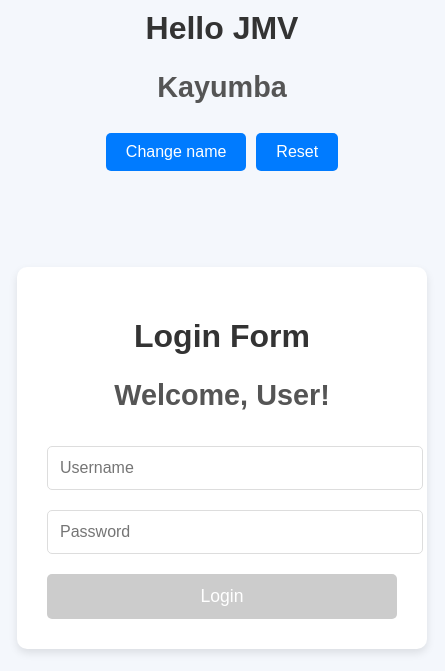
Test: Testing my APP › Test if the "change name" button will change to Leticia
The image size is (445, 671).
Click the button "Change name": (176, 152) [106,133,246,171]
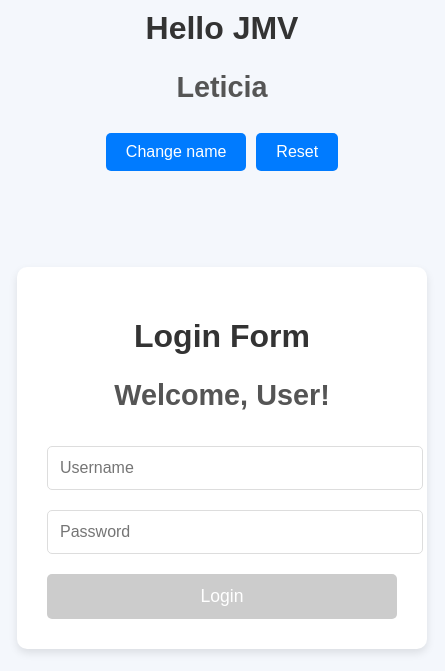
expect the heading "Leticia" is shown: met, box [176,71,268,103]
